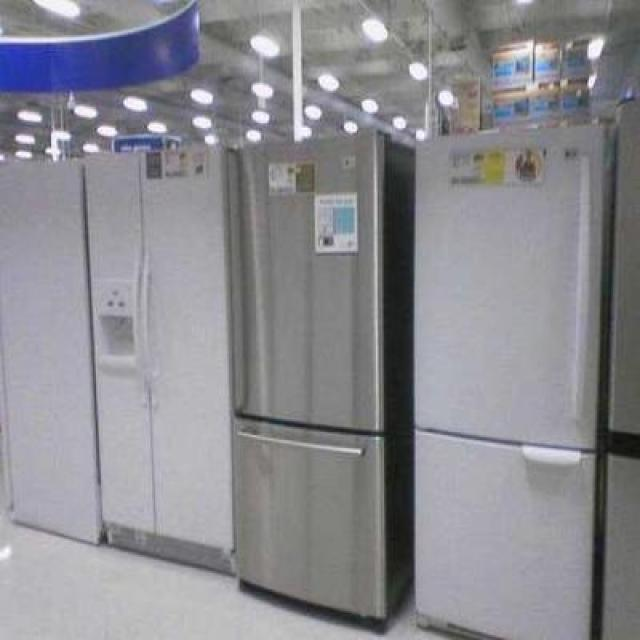refrigerator: (414, 136, 604, 640), (236, 128, 388, 622), (82, 150, 233, 568)
